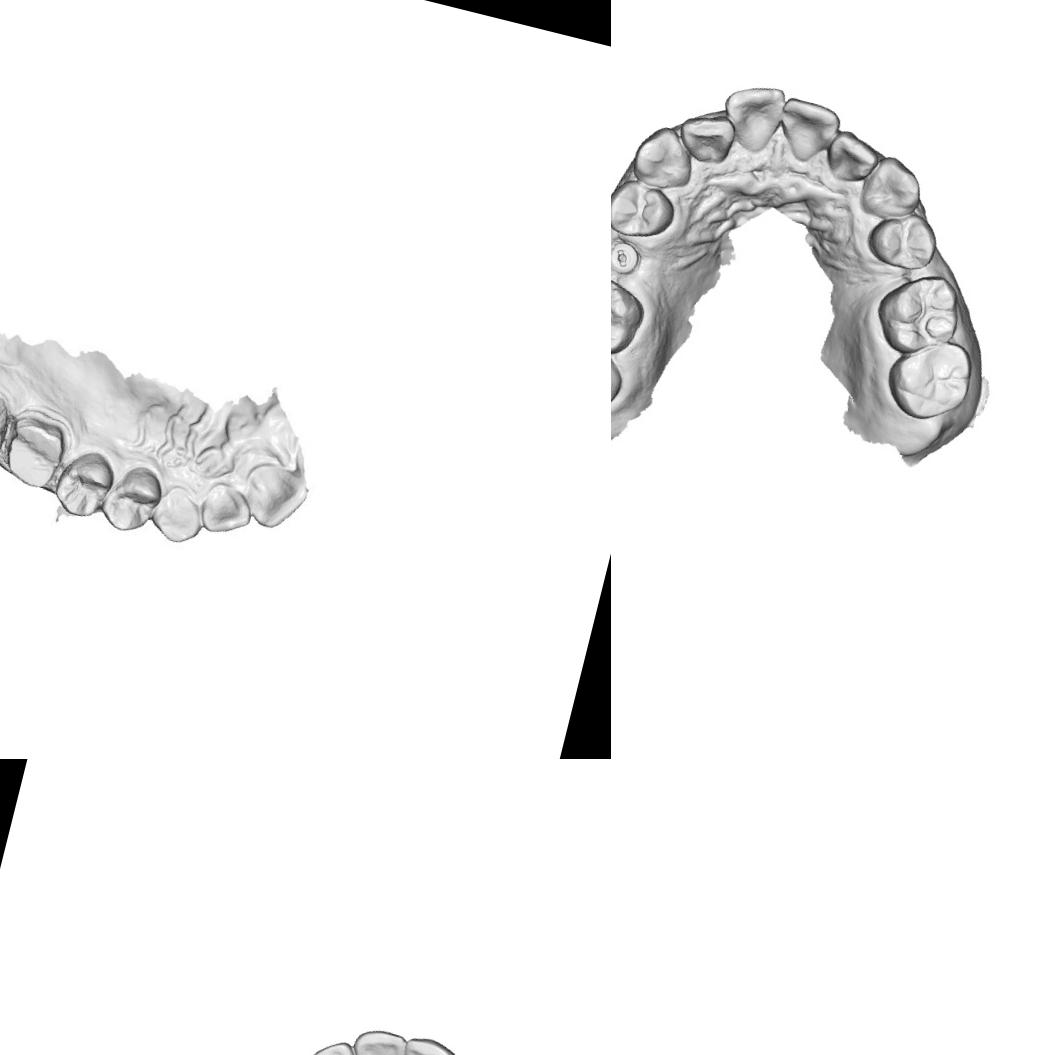canine: (626, 119, 702, 196), (854, 150, 928, 228), (146, 479, 209, 551)
crown: (0, 409, 71, 491)
implant_minus: (611, 234, 643, 277)
incisor: (713, 75, 789, 158), (770, 92, 844, 168), (240, 456, 310, 531), (672, 104, 740, 168), (820, 126, 884, 188), (198, 482, 254, 540), (344, 1020, 412, 1055), (395, 1029, 460, 1055), (301, 1033, 370, 1055)
molar: (878, 326, 980, 430), (866, 262, 968, 366), (611, 264, 651, 359), (611, 330, 632, 420)
premolar: (48, 442, 122, 524), (863, 204, 942, 276), (98, 457, 166, 538), (611, 172, 681, 246)
